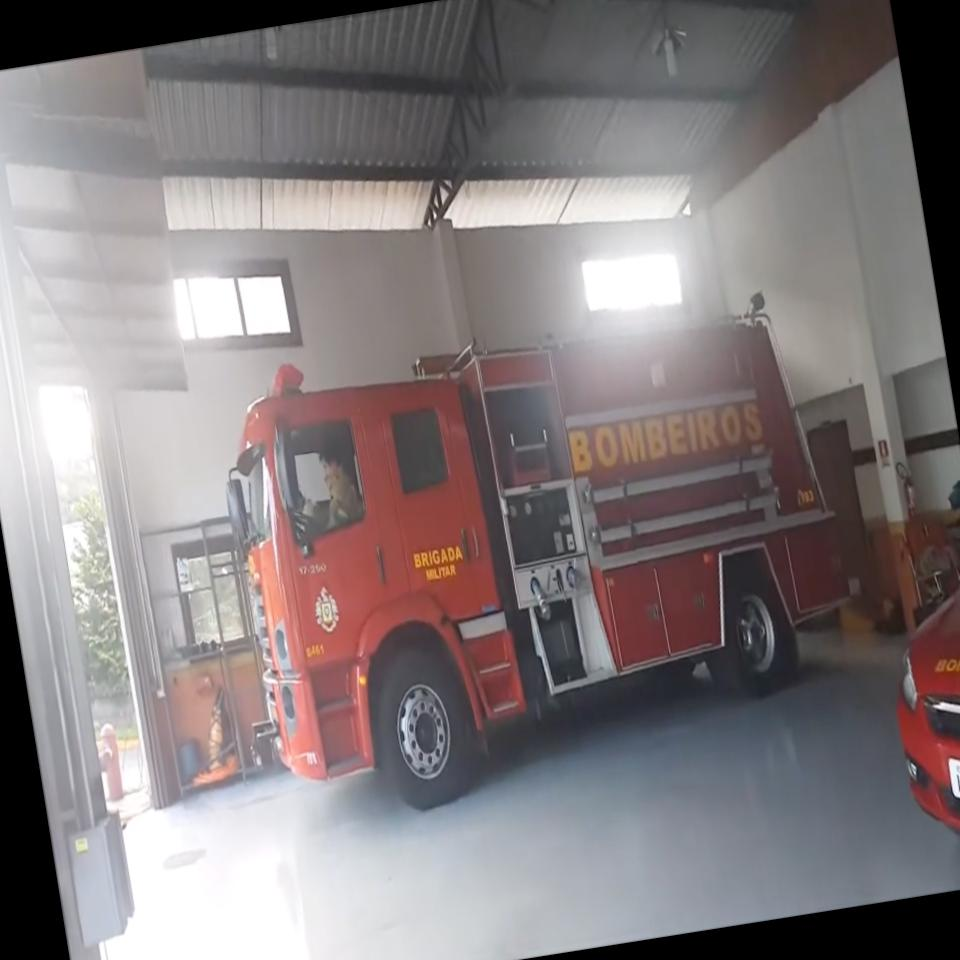viatura: (200, 281, 878, 834)
